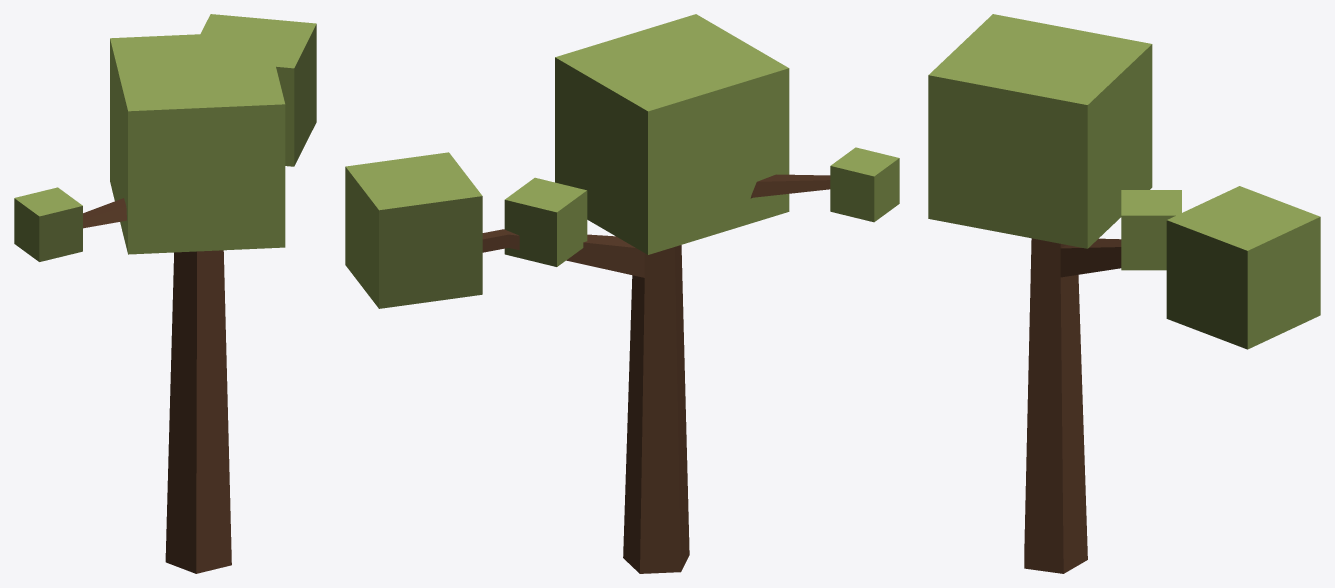
File: Tree.gltf
3 renders of one model, left to right at view 1: azimuth 30°, elevation 25°; view 2: azimuth 150°, elevation 25°; view 3: azimuth 270°, elevation 25°, orthographic.
Visible parts, largest first — view 1: tree; view 2: tree; view 3: tree.
Boxes of the visible parts, x1=… form: tree: x1=14, y1=14, x2=316, y2=573; tree: x1=345, y1=14, x2=899, y2=573; tree: x1=928, y1=14, x2=1320, y2=573.
Size of what is drawn, in the model's own units: 5.41 by 6.16 by 4.41.
1 material, 1 textured.
